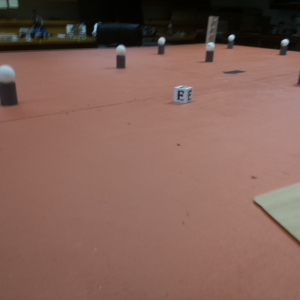obstacle: (1, 64, 19, 107), (114, 46, 127, 69), (204, 44, 217, 63), (279, 38, 288, 56), (227, 35, 237, 51), (158, 38, 166, 56), (295, 70, 300, 89)
slope: (251, 177, 300, 241)
